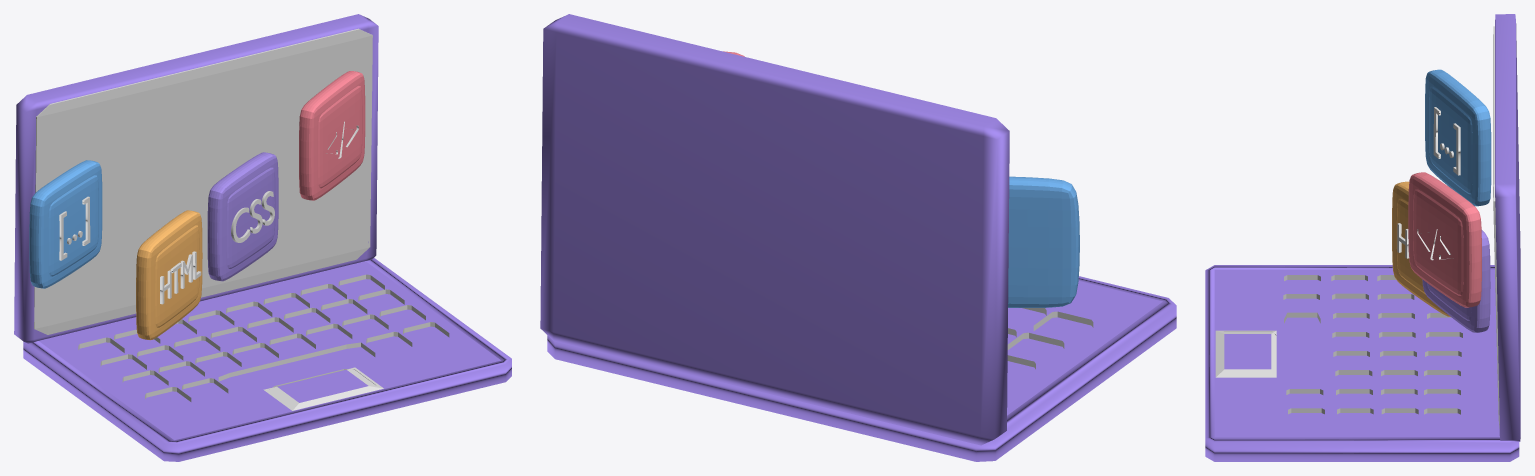
The picture shows the model from 3 angles, left to right: view 1: azimuth 30°, elevation 25°; view 2: azimuth 150°, elevation 25°; view 3: azimuth 270°, elevation 25°; orthographic projection. The views are drawn at different scales.
Visible parts, largest first — view 1: noyt097; view 2: noyt097; view 3: noyt097.
Part boxes in pixels (x1,y1,x2,y2): noyt097: [14, 14, 511, 461]; noyt097: [540, 14, 1176, 461]; noyt097: [1205, 14, 1520, 461].
Size of the model in its own units: 2.25 by 1.48 by 1.55.
